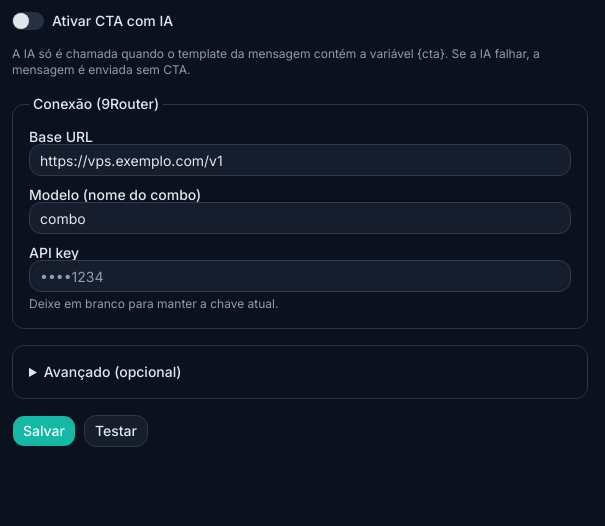
AiSettingsForm › Testar mostra a mensagem de erro
The width and height of the screenshot is (605, 526).
Step 1. Click the button "Testar" → x=116, y=431, box [84,415,148,447]
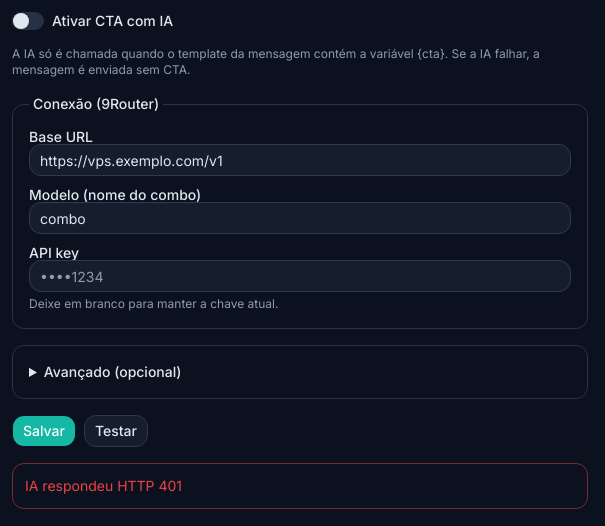
Check: the message shows "HTTP 401", box [25,477,182,494]
